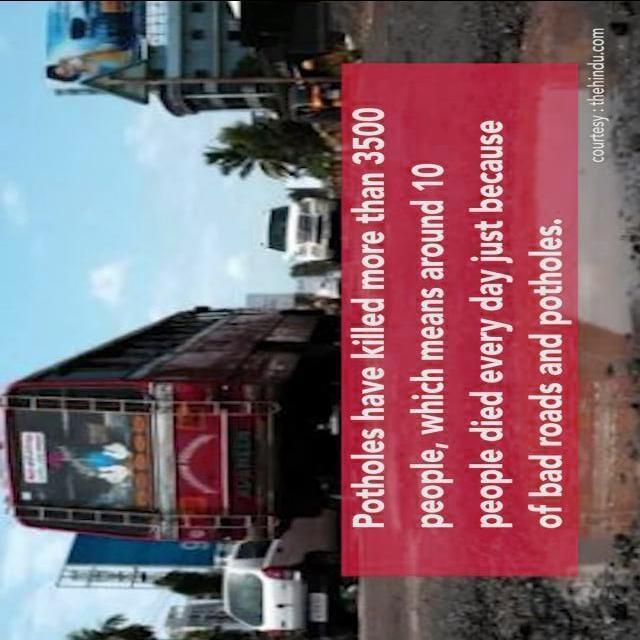pothole: (518, 2, 640, 333)
